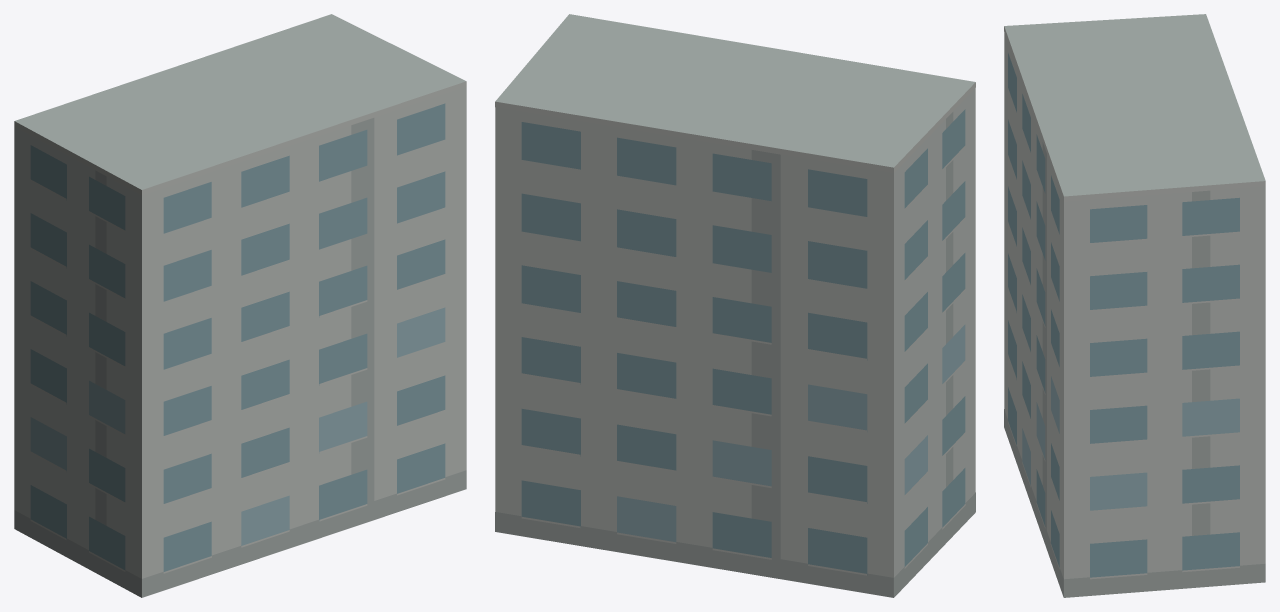
File: survey-upis-32813965.glb
3 views of the same model, side by side, from view 1: azimuth 30°, elevation 25°; view 2: azimuth 150°, elevation 25°; view 3: azimuth 270°, elevation 25° (orthographic). The views are drawn at different scales.
Parts seen in each view (by area): view 1: survey-upis-32813965.tmp; view 2: survey-upis-32813965.tmp; view 3: survey-upis-32813965.tmp.
Part boxes in pixels (x1,y1,x2,y2): survey-upis-32813965.tmp: (14,14,466,597); survey-upis-32813965.tmp: (495,14,975,597); survey-upis-32813965.tmp: (1004,14,1265,597).
Bounding box in the file's own units: 17.85 × 18.3 × 10.82.
